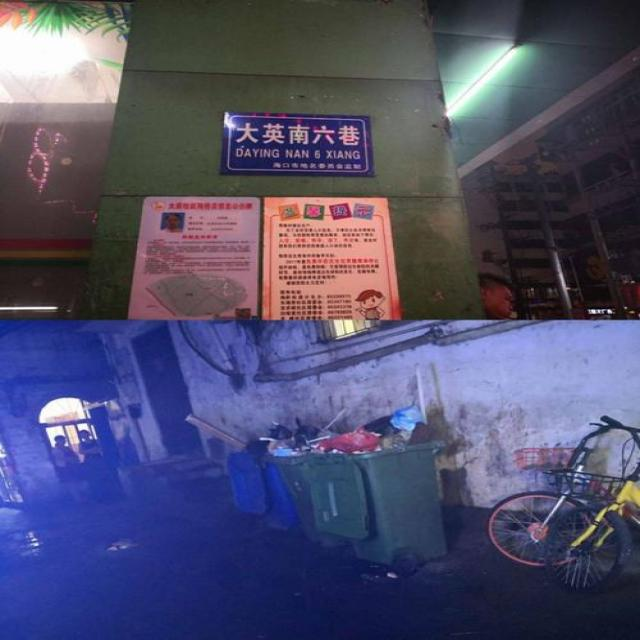overflow: (306, 403, 445, 563), (183, 412, 297, 526), (262, 420, 340, 546)
